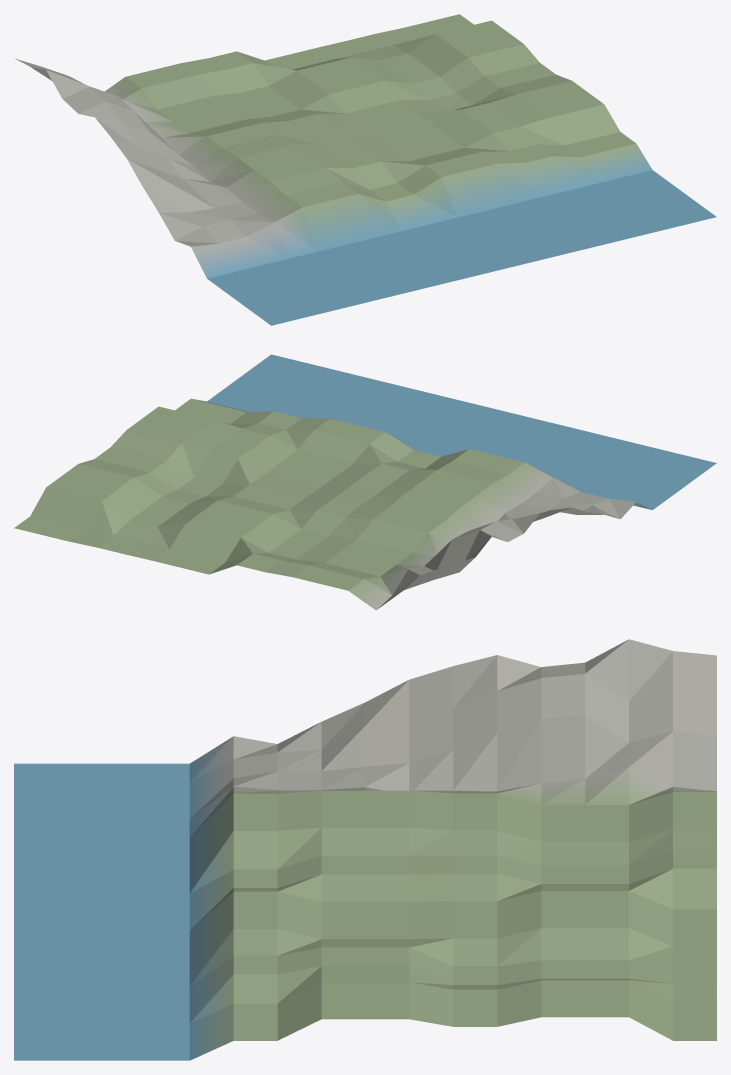
3 views of the same model, one above another, from view 1: azimuth 30°, elevation 25°; view 2: azimuth 150°, elevation 25°; view 3: azimuth 270°, elevation 25° (orthographic). The views are drawn at different scales.
Bounding box in the file's own units: 32 × 6.25 × 32.
